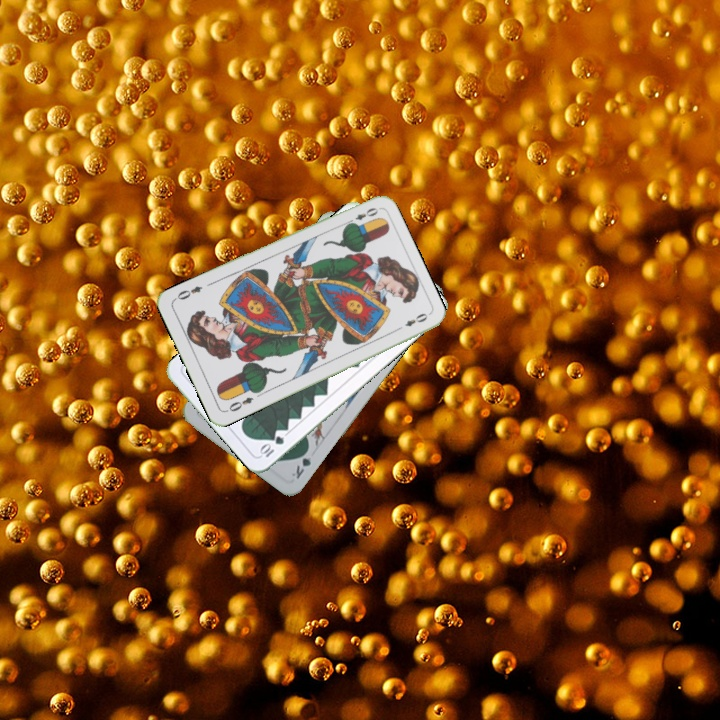EO: (343, 203, 381, 228), (222, 393, 256, 415)
G10: (256, 432, 287, 460)
GK: (287, 444, 314, 482)
